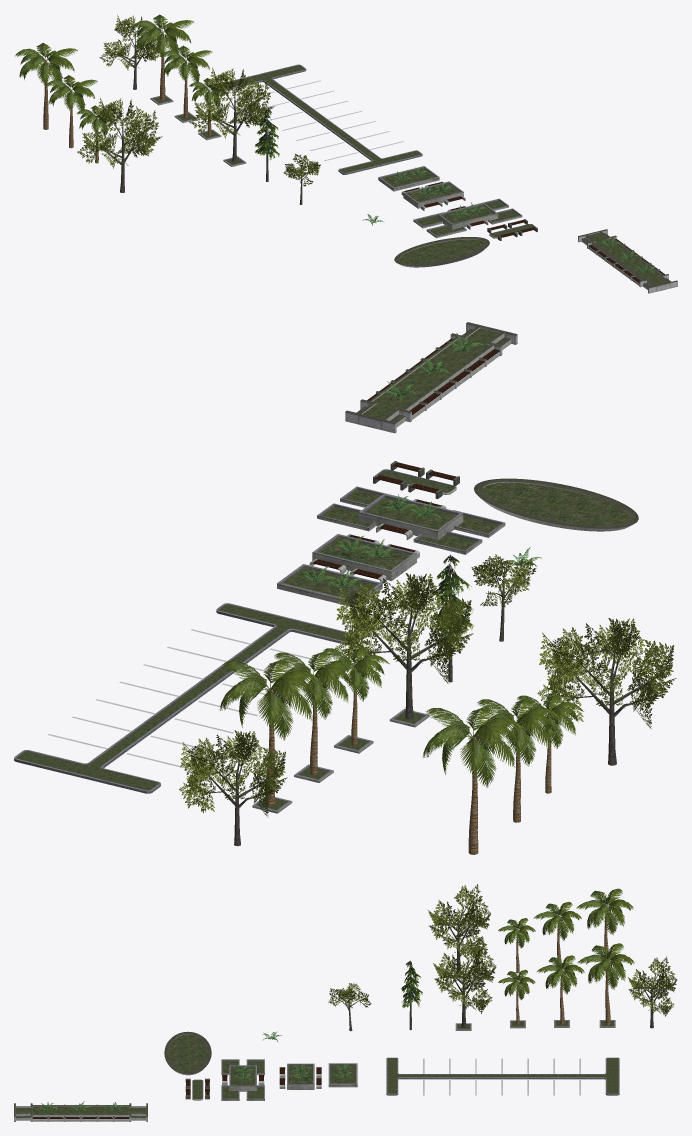
The model's file is Final tree Props.fbx.
3 views of the same model, one above another, from view 1: azimuth 30°, elevation 25°; view 2: azimuth 150°, elevation 25°; view 3: azimuth 270°, elevation 25° (orthographic). The views are drawn at different scales.
Visible parts, largest first — view 1: tree3, tree5, tt9, Park-05, tt7, tt5, Tree11, Tree8, tree4, Tree10, Tree13, tt6 (+6 smaller); view 2: tree3, tree5, tt9, Park-05, tt7, tree4, tt5, Tree11, Tree8, tt6, Tree10, Tree13 (+6 smaller); view 3: tree3, tt9, tree5, Park-05, tt7, tree4, Tree11, tt5, Tree8, Tree10, Tree13, tt6 (+6 smaller).
Boxes of the visible parts, bbox=[...] form: tree3: bbox=[189, 67, 274, 166]; tree5: bbox=[77, 97, 162, 192]; tt9: bbox=[225, 64, 422, 174]; Park-05: bbox=[578, 229, 677, 293]; tt7: bbox=[413, 198, 522, 238]; tt5: bbox=[394, 237, 489, 267]; Tree11: bbox=[132, 14, 194, 105]; Tree8: bbox=[15, 43, 77, 129]; tree4: bbox=[99, 15, 164, 89]; Tree10: bbox=[160, 45, 212, 122]; Tree13: bbox=[45, 75, 97, 148]; tt6: bbox=[401, 181, 465, 210]; tree3: bbox=[334, 573, 473, 727]; tree5: bbox=[537, 618, 676, 765]; tt9: bbox=[14, 603, 361, 793]; Park-05: bbox=[345, 322, 517, 433]; tt7: bbox=[317, 486, 505, 554]; tree4: bbox=[179, 730, 287, 846]; tt5: bbox=[474, 478, 638, 531]; Tree11: bbox=[219, 659, 323, 813]; Tree8: bbox=[422, 706, 526, 854]; tt6: bbox=[309, 534, 419, 583]; Tree10: bbox=[274, 651, 358, 782]; Tree13: bbox=[477, 698, 561, 822]; tree3: bbox=[433, 937, 496, 1030]; tt9: bbox=[386, 1057, 619, 1095]; tree5: bbox=[428, 884, 490, 975]; Park-05: bbox=[14, 1101, 147, 1121]; tt7: bbox=[221, 1059, 264, 1100]; tree4: bbox=[628, 956, 677, 1028]; Tree11: bbox=[577, 943, 634, 1027]; tt5: bbox=[164, 1031, 211, 1075]; Tree8: bbox=[576, 888, 633, 971]; Tree10: bbox=[537, 955, 584, 1027]; Tree13: bbox=[534, 902, 581, 968]; tt6: bbox=[279, 1063, 321, 1089].
Bounding box in the file's own units: 5179 × 1273 × 8912.
